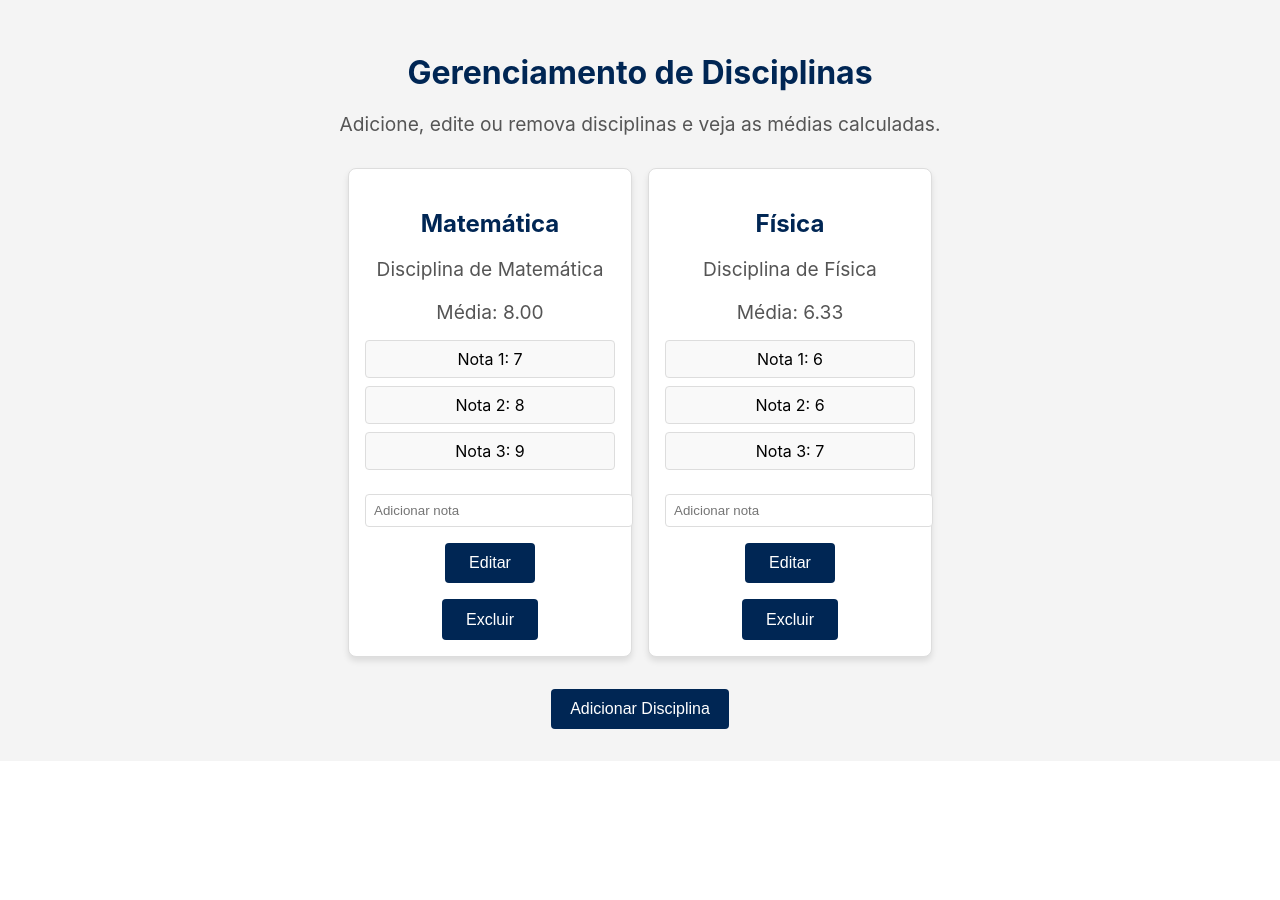
Test case: Exclui uma disciplina corretamente
Click the button "Excluir" below "8.00" at (490, 620), box [442,599,538,640]
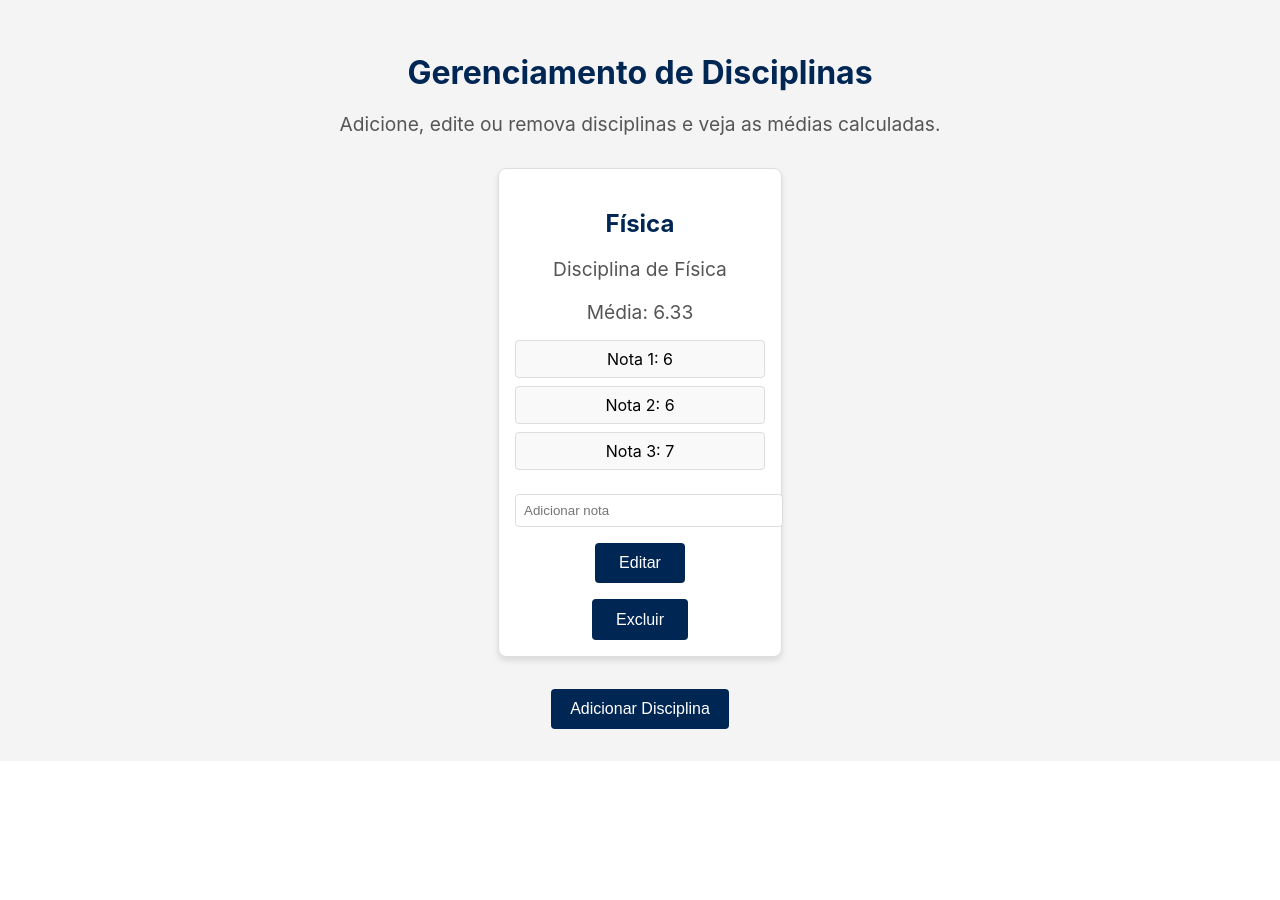
Expected: the heading "Matemática" is gone
